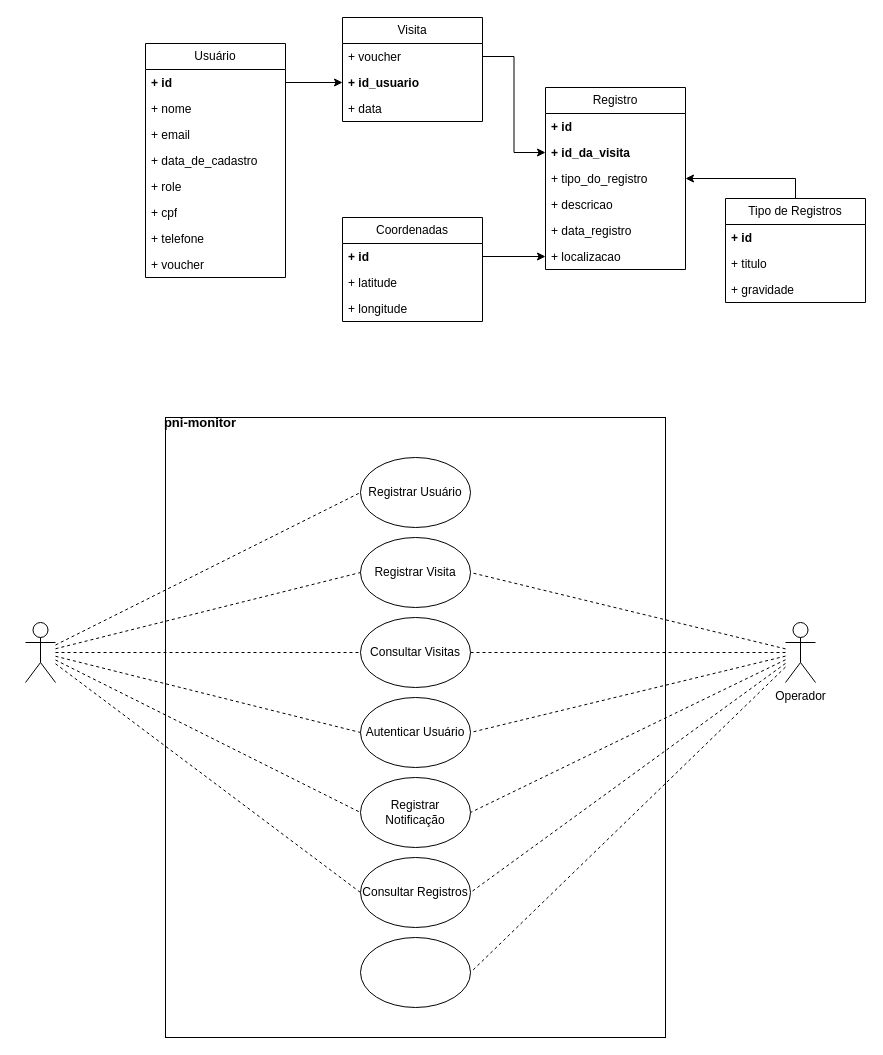
Image size: 883x1055. Some labels were removed from this diagram. The centre of each missing label's shape, as x and y in pixels:
"Encerrar Registros" belongs at [415,972].
"Visitante" belongs at [40,652].
